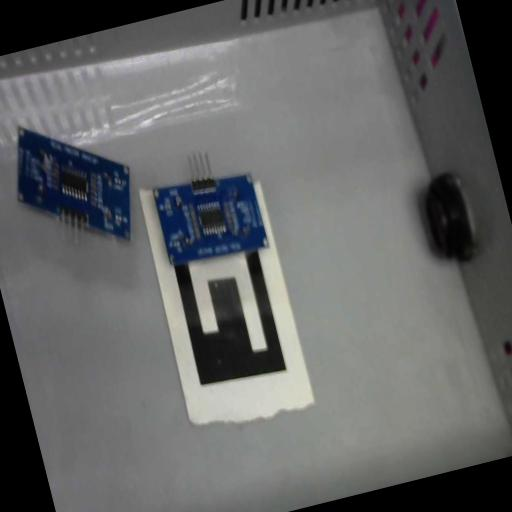QR: (159, 247, 317, 428)
ultrasonic_hc-sr04: (2, 103, 148, 266), (146, 146, 270, 272)
